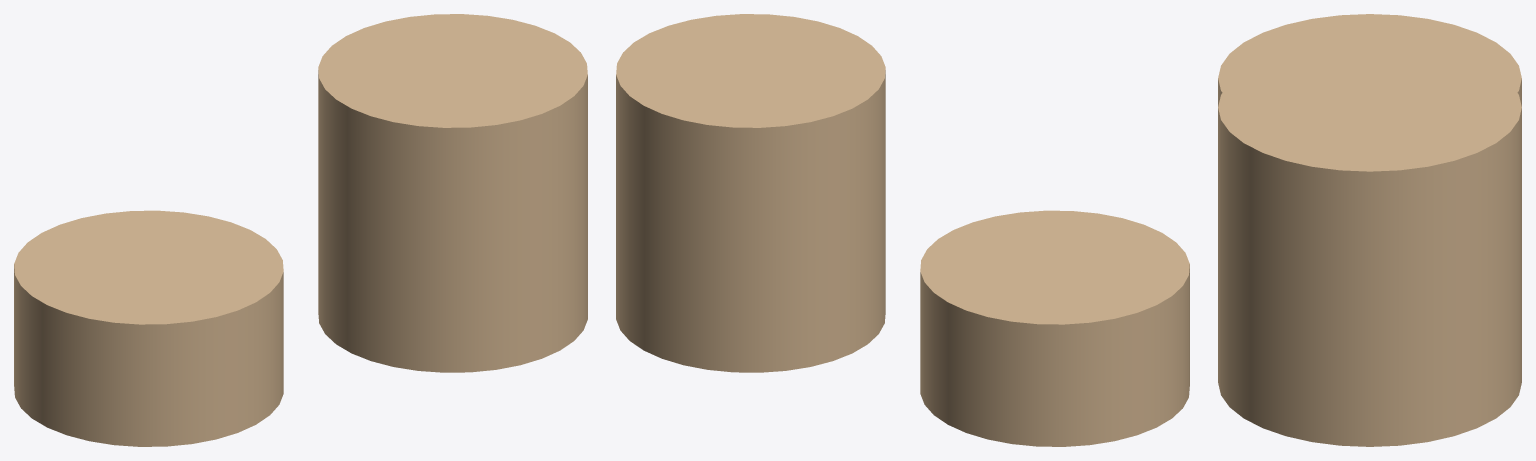
Rendered from cylinders_pair.glb.
3 views of the same model, side by side, from view 1: azimuth 30°, elevation 25°; view 2: azimuth 150°, elevation 25°; view 3: azimuth 270°, elevation 25° (orthographic). The views are drawn at different scales.
Visible parts, largest first — view 1: cylinder_h2, cylinder_h1; view 2: cylinder_h2, cylinder_h1; view 3: cylinder_h2, cylinder_h1.
Part boxes in pixels (x1=…): cylinder_h2: x1=318, y1=14, x2=587, y2=372; cylinder_h1: x1=14, y1=210, x2=283, y2=446; cylinder_h2: x1=616, y1=14, x2=885, y2=372; cylinder_h1: x1=920, y1=210, x2=1189, y2=446; cylinder_h2: x1=1218, y1=43, x2=1521, y2=446; cylinder_h1: x1=1218, y1=14, x2=1521, y2=106.
Size of the model in its own units: 4.6 by 2 by 2.
